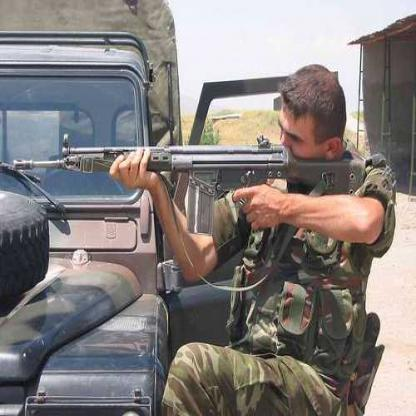Heavy Gun: (11, 132, 367, 236)
Person: (112, 64, 402, 416)
